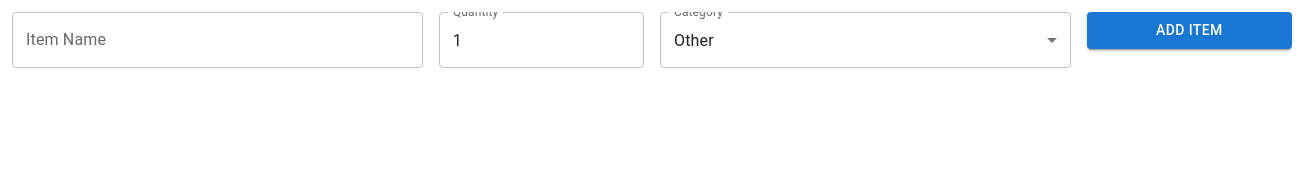
Test: AddItemForm › shows error when submitting empty form
The image size is (1304, 172).
Click the button "Add Item" at (1189, 30), box [1087, 12, 1292, 48]
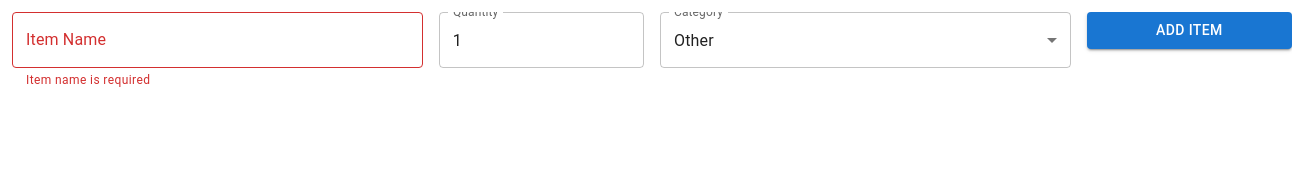
Result: the text "Item name is required" is shown at [26, 73, 150, 87]
